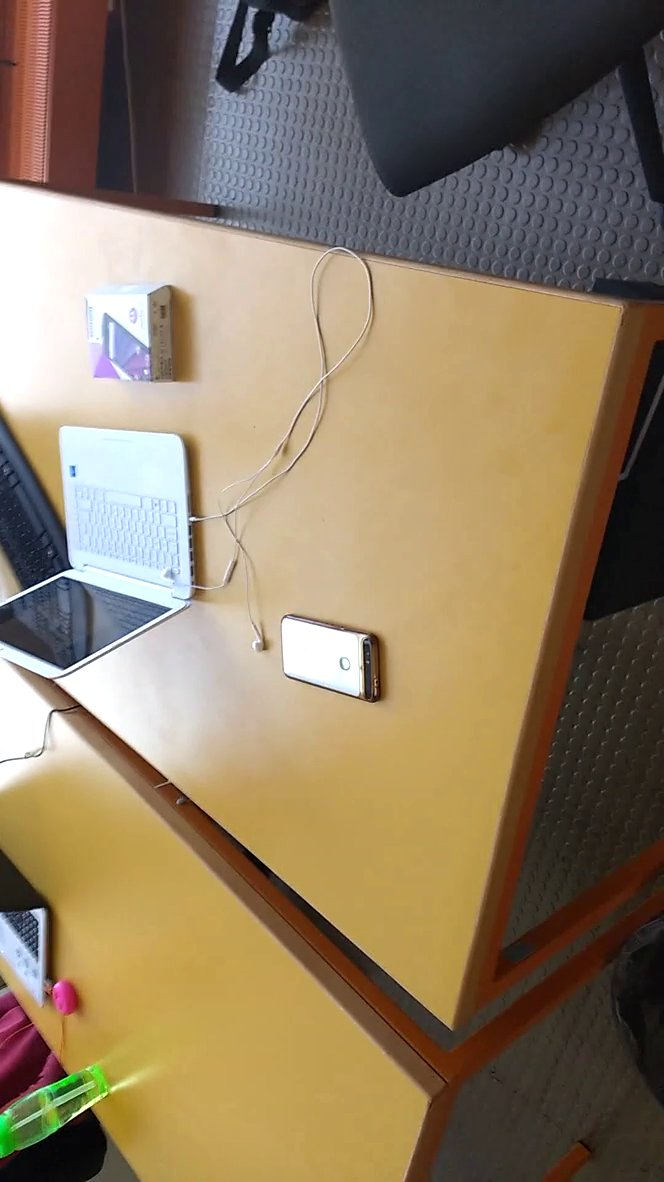phone: (276, 605, 393, 717)
